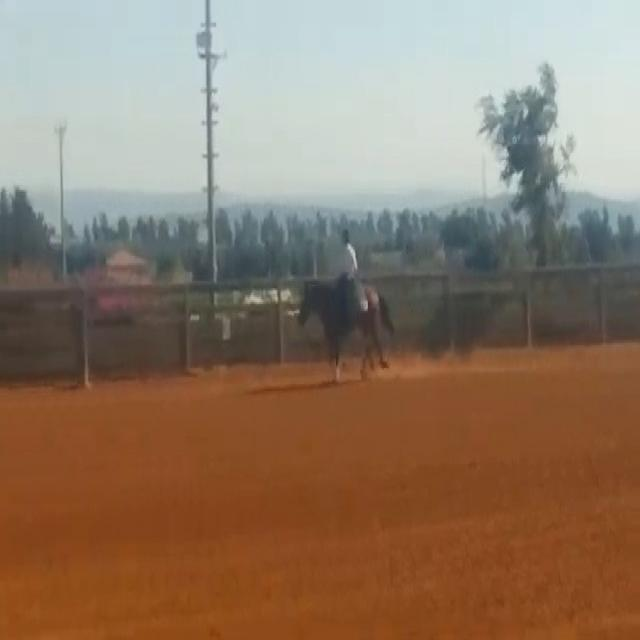horse: (293, 272, 396, 382)
